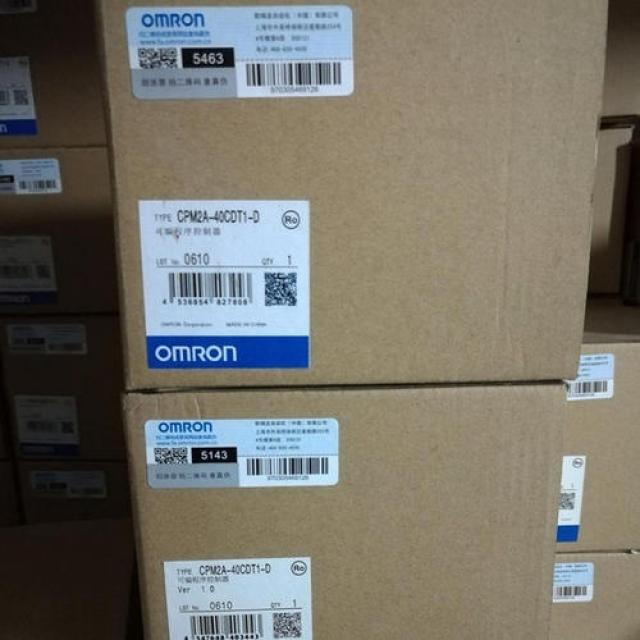box: (100, 1, 609, 390), (120, 381, 567, 639), (554, 302, 639, 554), (0, 146, 123, 313), (0, 0, 111, 147), (1, 313, 128, 390), (2, 390, 128, 463), (8, 461, 133, 531), (548, 551, 639, 639)
